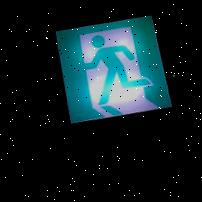emergency_exit: (53, 14, 173, 126)
